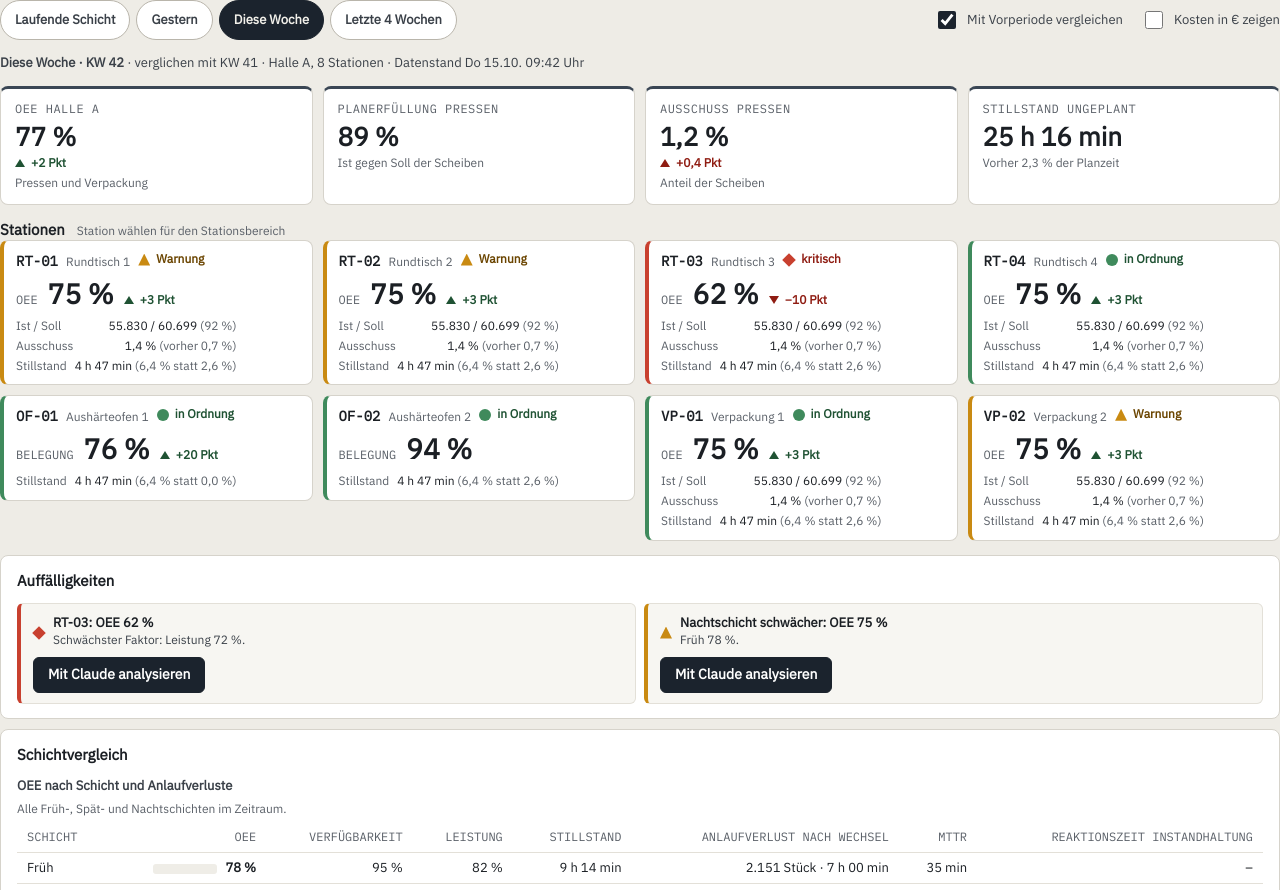
Test: Stationsdetail › zeigt Pareto-Kosten in Euro, wenn Kosten gewählt sind
Click the button with class "mc-tile" that starts with "RT-03". click: (801, 313)
box: x1=645 y1=240 x2=958 y2=385
(page scrolled)
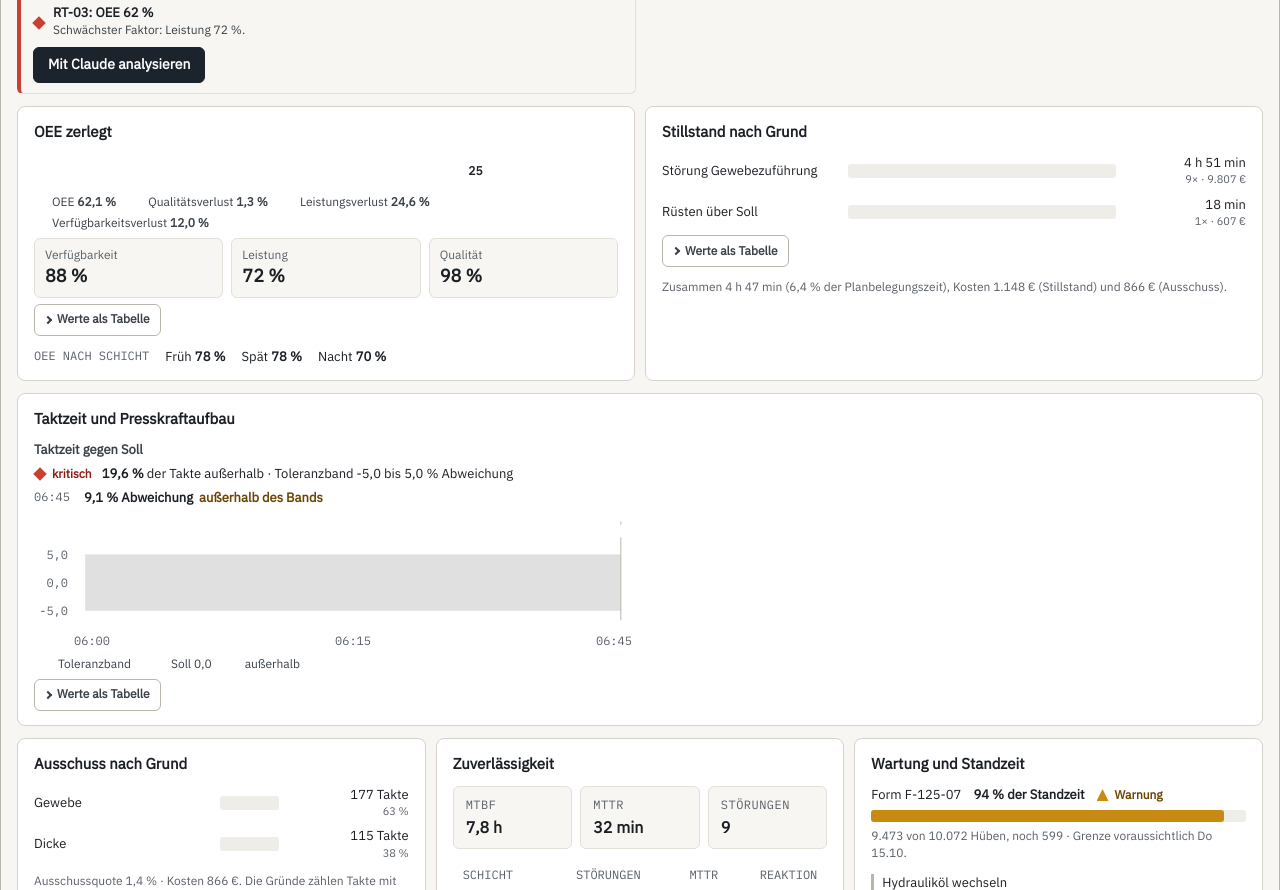
Expected: the element with class "mc-detail" shows "9.807 €", x1=1198 y1=172 x2=1246 y2=186
